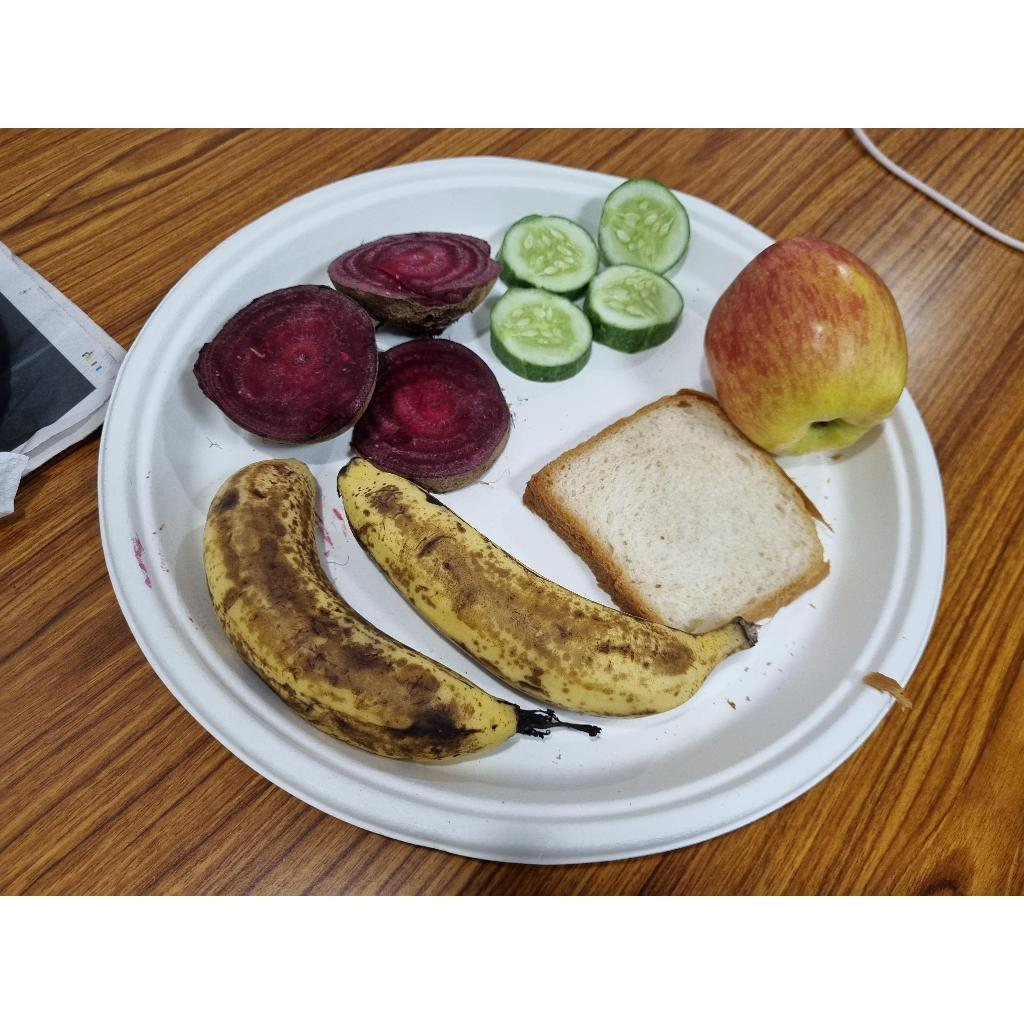apple: (702, 239, 912, 462)
banana: (335, 457, 754, 720), (202, 461, 521, 766)
cucumber: (482, 280, 597, 386), (595, 180, 692, 282), (495, 215, 602, 307), (581, 265, 685, 358)
